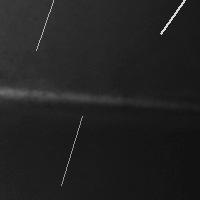scratches: (1, 84, 172, 109), (56, 111, 87, 190), (156, 0, 198, 38), (31, 0, 59, 55)
